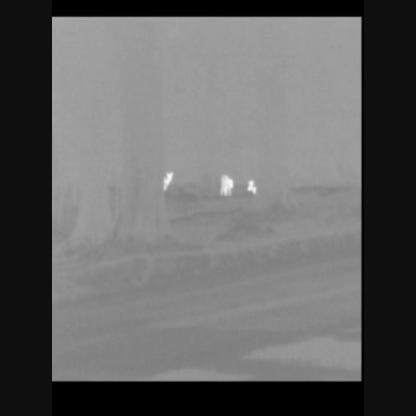rehkitze: (220, 175, 238, 200), (163, 172, 178, 194), (249, 177, 258, 198)
